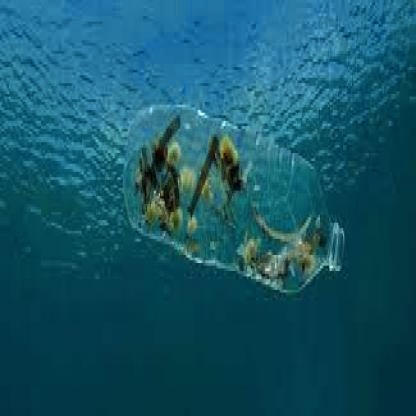pbottle: (118, 97, 349, 306)
